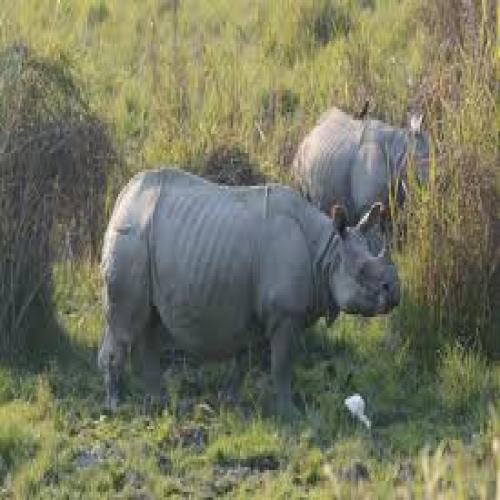rhino-endangered: (72, 167, 404, 413), (279, 104, 439, 233)
